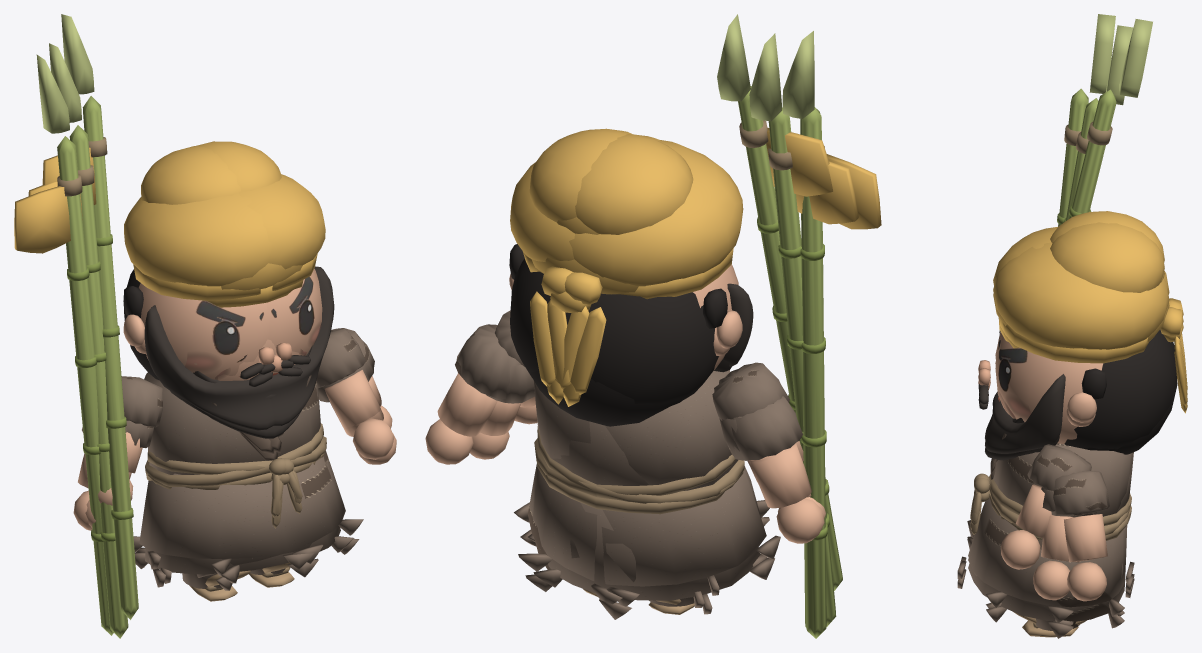
The model's file is yellow_turban_poses.glb.
3 renders of one model, left to right at view 1: azimuth 30°, elevation 25°; view 2: azimuth 150°, elevation 25°; view 3: azimuth 270°, elevation 25°, orthographic. The views are drawn at different scales.
Visible parts, largest first — view 1: pose_1, pose_3, pose_0; view 2: pose_1, pose_3, pose_0; view 3: pose_3, pose_1, pose_0.
Part boxes in pixels (left/top/right/bottom): pose_1: left=14, top=54, right=394, bottom=635; pose_3: left=42, top=14, right=392, bottom=619; pose_0: left=28, top=43, right=396, bottom=638; pose_1: left=495, top=31, right=881, bottom=638; pose_3: left=425, top=14, right=842, bottom=606; pose_0: left=470, top=33, right=858, bottom=627; pose_3: left=959, top=19, right=1187, bottom=625; pose_1: left=957, top=14, right=1187, bottom=623; pose_0: left=957, top=25, right=1187, bottom=638.
Bounding box in the file's own units: 1.5 × 2.17 × 0.9887.
Materials: 13 (2 with a texture image).
